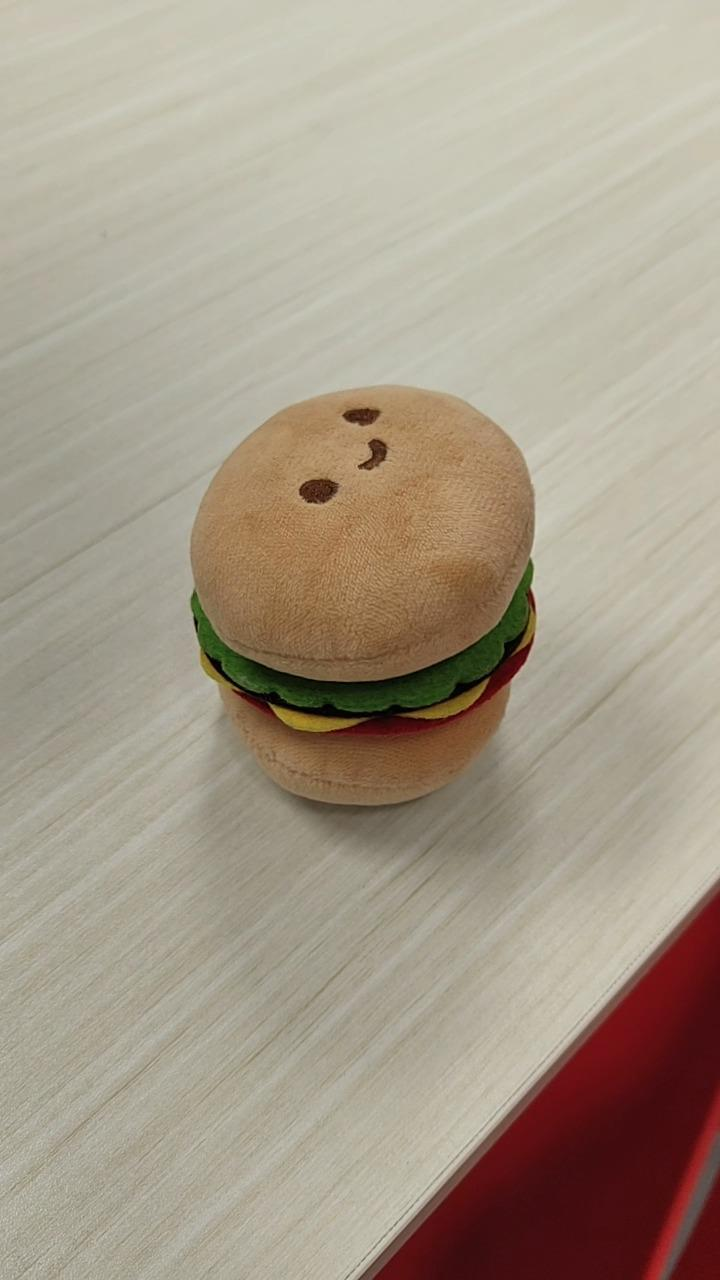hamburger: (188, 382, 538, 808)
